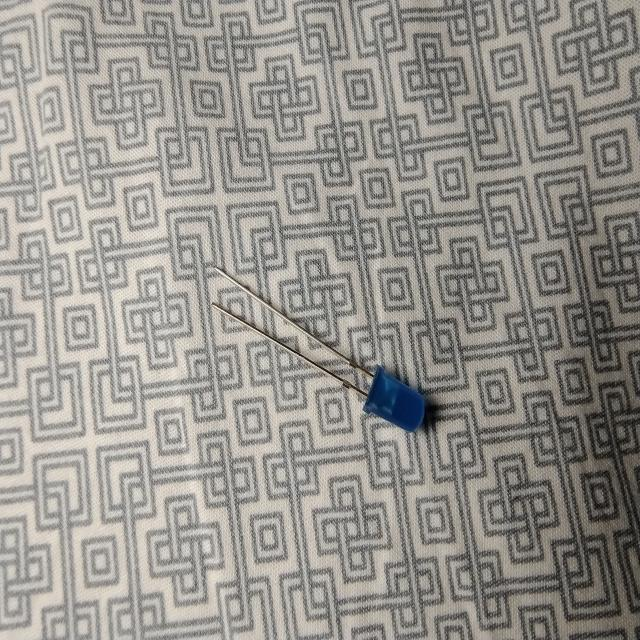blue_led: (362, 363, 426, 434)
